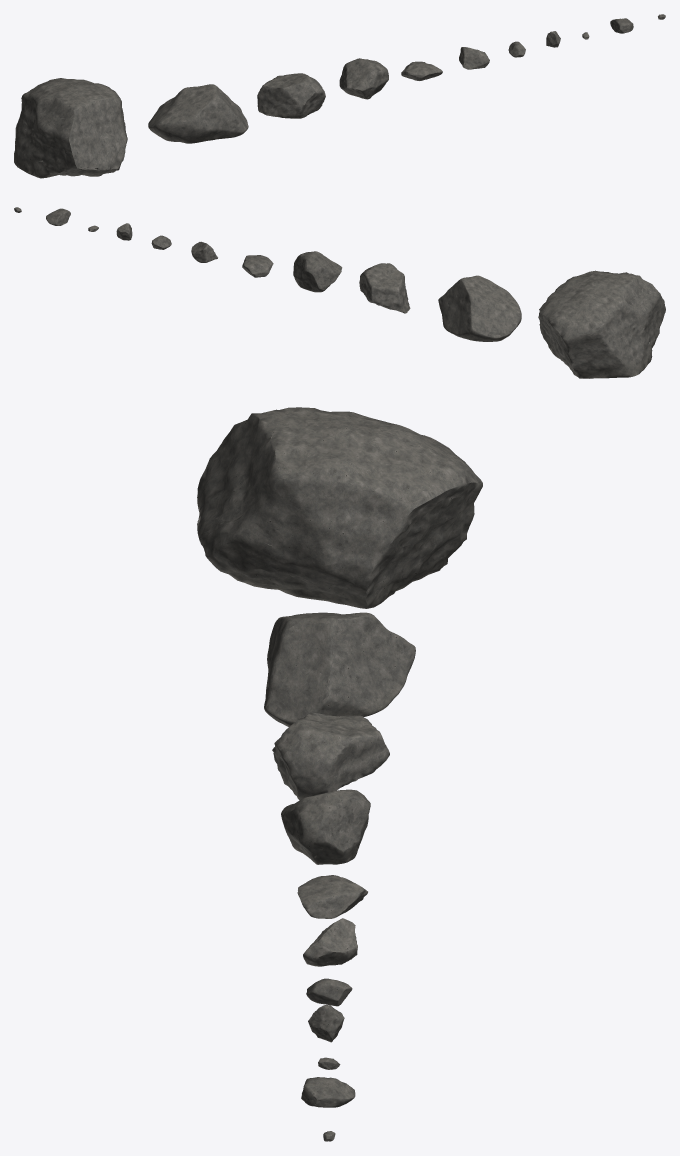
The model's file is moon-rocks.glb.
3 renders of one model, top to bottom at view 1: azimuth 30°, elevation 25°; view 2: azimuth 150°, elevation 25°; view 3: azimuth 270°, elevation 25°, orthographic. The views are drawn at different scales.
Parts seen in each view (by area): view 1: rock-01, rock-02, rock-03, rock-04, rock-05, rock-06, rock-10; view 2: rock-01, rock-02, rock-03, rock-04, rock-05, rock-06, rock-10; view 3: rock-01, rock-02, rock-03, rock-04, rock-05, rock-06, rock-10.
Part boxes in pixels (x1,y1,x2,y2): rock-01: (14,78,127,178); rock-02: (148,84,248,143); rock-03: (257,73,325,118); rock-04: (339,58,388,99); rock-05: (401,61,442,80); rock-06: (459,47,489,69); rock-10: (610,18,633,33); rock-01: (538,270,665,378); rock-02: (438,275,521,341); rock-03: (359,263,410,313); rock-04: (293,251,342,292); rock-05: (242,255,273,277); rock-06: (191,241,217,262); rock-10: (46,208,70,225); rock-01: (197,407,482,608); rock-02: (264,612,415,726); rock-03: (272,713,389,799); rock-04: (281,789,370,864); rock-05: (297,875,367,918); rock-06: (303,918,357,966); rock-10: (301,1077,355,1107).
Bounding box in the file's own units: 8.06 × 0.9214 × 1.57.
Materials: 1 (1 with a texture image).
